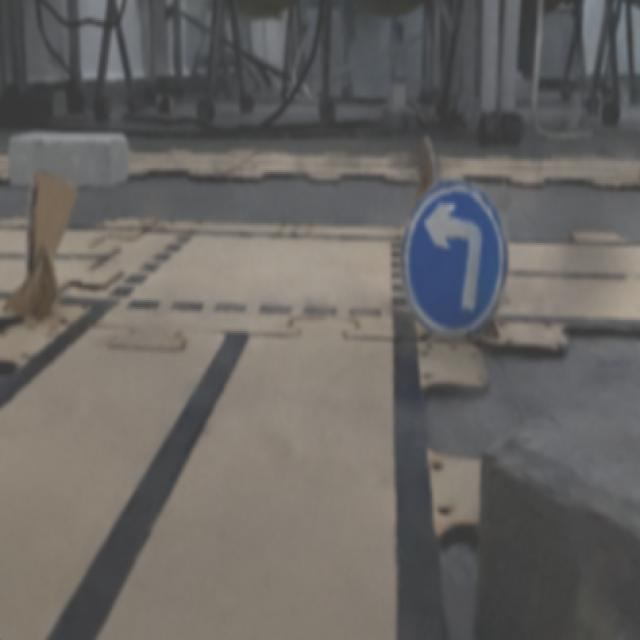LEFT: (402, 181, 506, 335)
